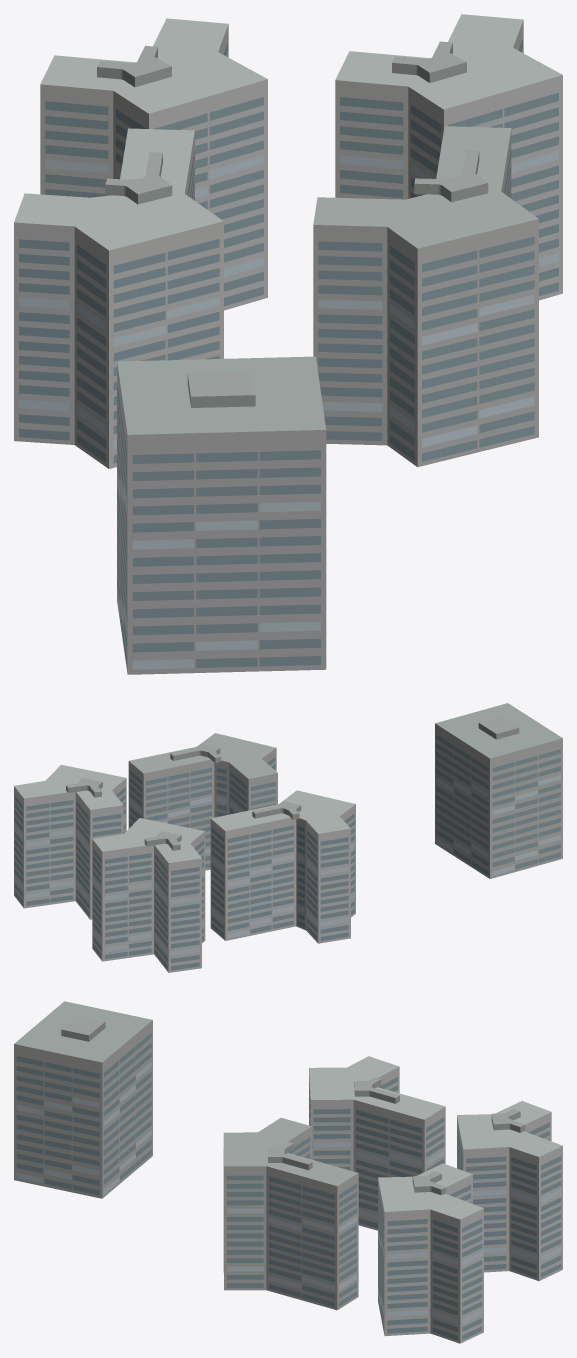
File: apt-a12013201.glb
3 renders of one model, top to bottom at view 1: azimuth 30°, elevation 25°; view 2: azimuth 150°, elevation 25°; view 3: azimuth 270°, elevation 25°, orthographic. The views are drawn at different scales.
Parts seen in each view (by area): view 1: apt-a12013201; view 2: apt-a12013201; view 3: apt-a12013201.
Part boxes in pixels (left/top/right/bottom): apt-a12013201: left=14, top=14, right=562, bottom=674; apt-a12013201: left=14, top=703, right=562, bottom=972; apt-a12013201: left=14, top=1001, right=562, bottom=1343.
Bounding box in the file's own units: 140 × 45 × 157.
